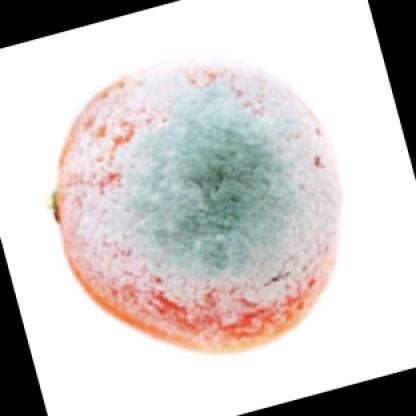rotten: (57, 65, 334, 351)
